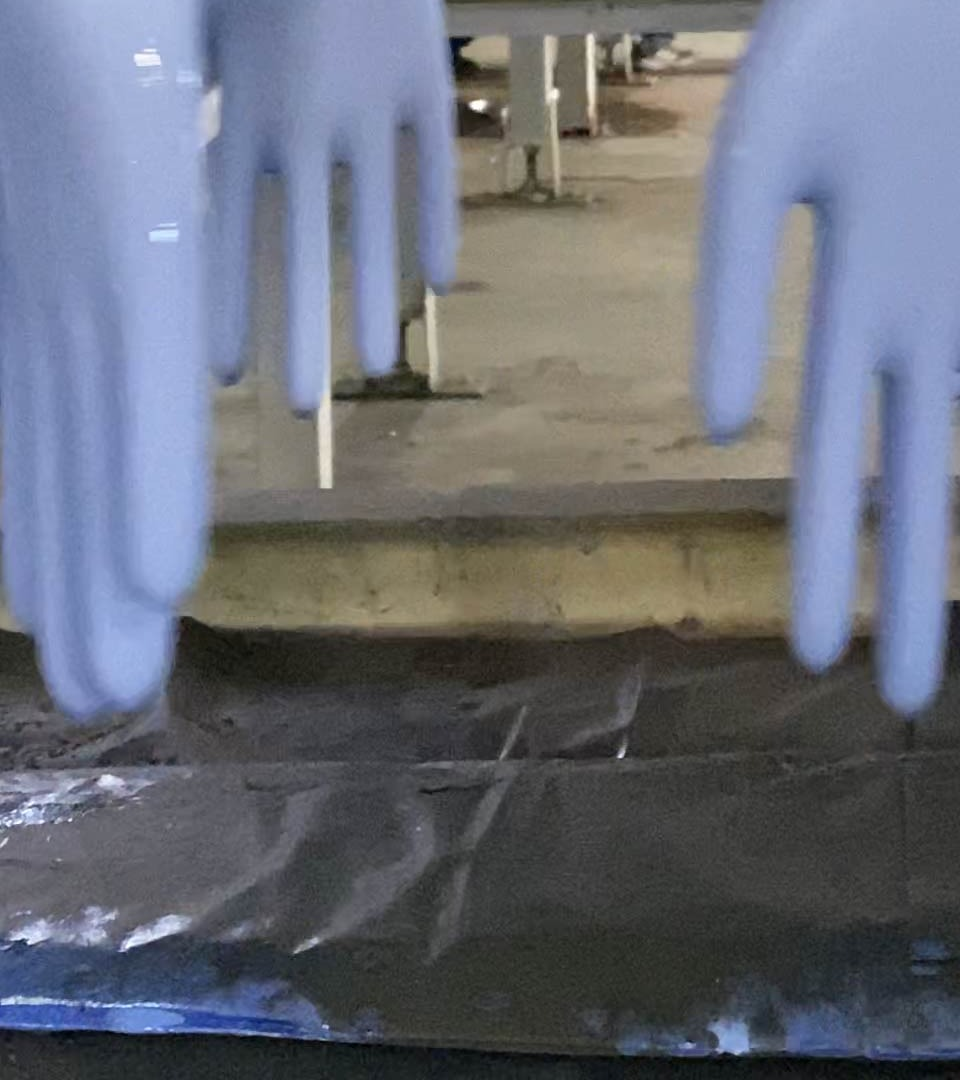glove: (690, 3, 960, 709), (1, 1, 211, 749), (198, 1, 469, 419)
